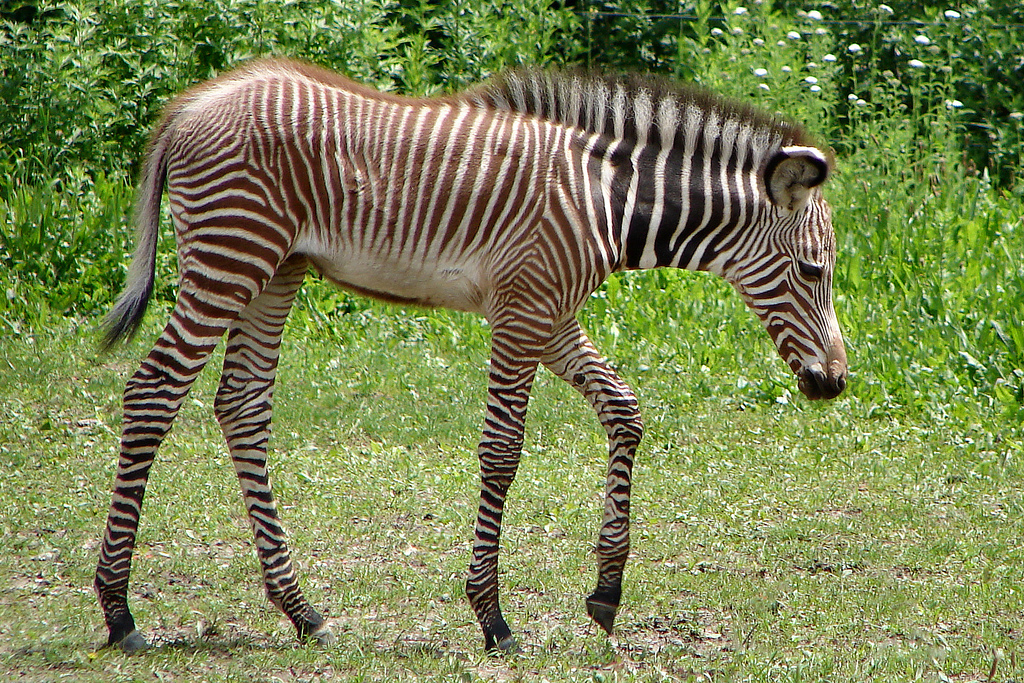zebra: (82, 46, 863, 662)
